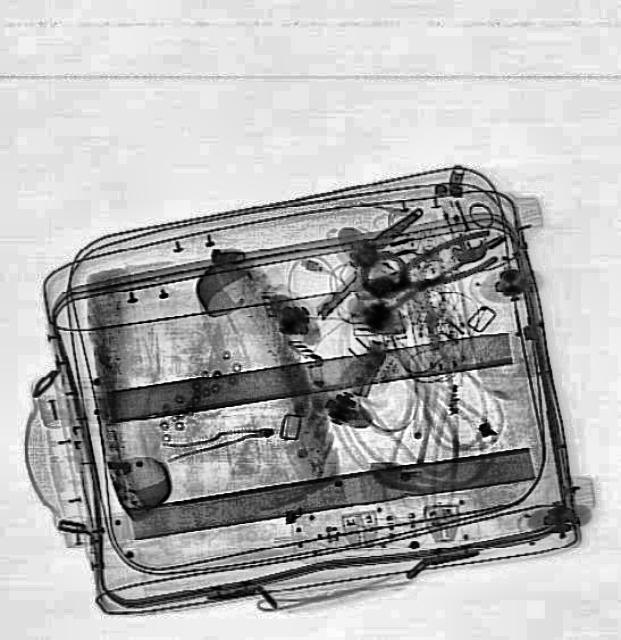Pliers: (352, 223, 501, 309)
